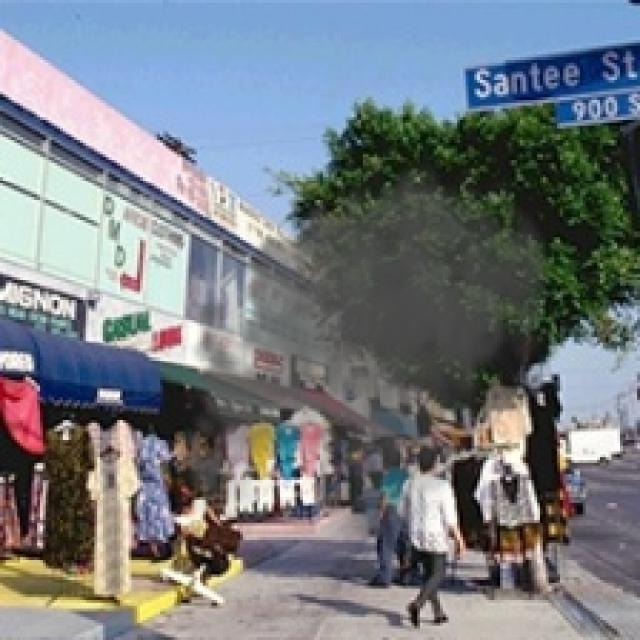smoke: (169, 146, 557, 540)
